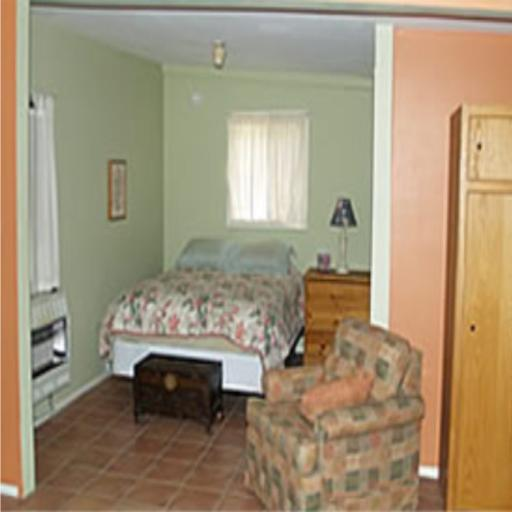bus: (440, 106, 512, 510)
hole: (244, 318, 424, 510)
person: (100, 240, 303, 392)
